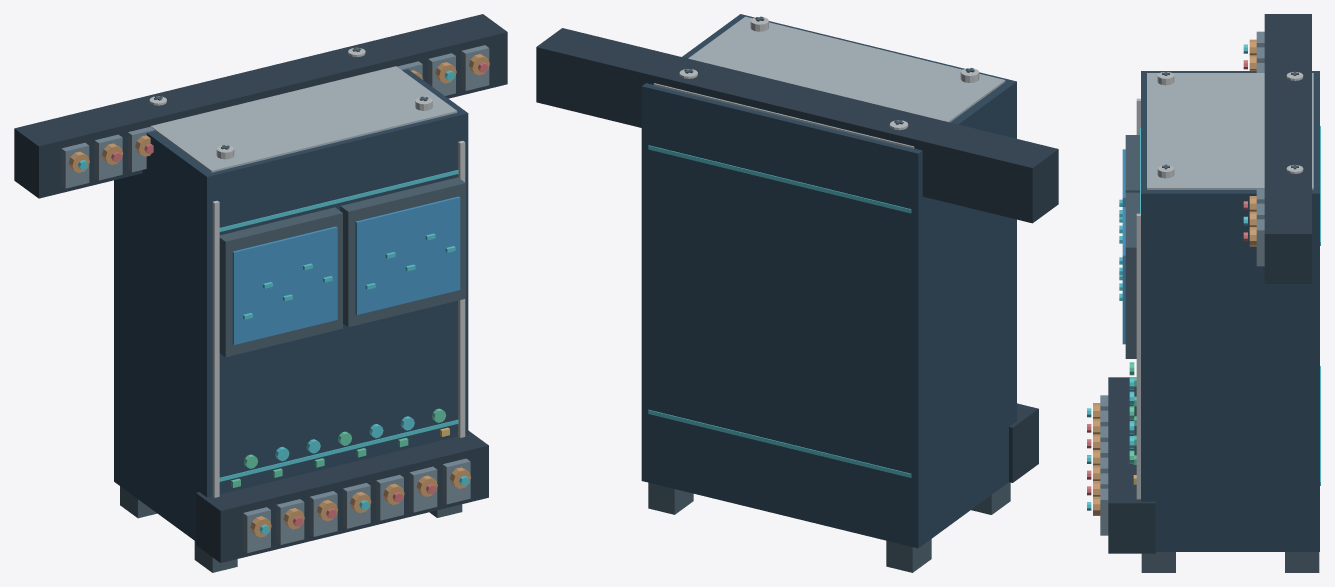
Rendered from 39_L78_LowKFTIRBondingAnalyzer.glb.
3 renders of one model, left to right at view 1: azimuth 30°, elevation 25°; view 2: azimuth 150°, elevation 25°; view 3: azimuth 270°, elevation 25°, orthographic. The views are drawn at different scales.
Parts seen in each view (by area): view 1: LowKFTIRBondingAnalyzer_Node_0000, LowKFTIRBondingAnalyzer_Node_0007, LowKFTIRBondingAnalyzer_Node_0049, LowKFTIRBondingAnalyzer_Node_0077, LowKFTIRBondingAnalyzer_Node_0032, LowKFTIRBondingAnalyzer_Node_0025, LowKFTIRBondingAnalyzer_Node_0102, LowKFTIRBondingAnalyzer_Node_0024, LowKFTIRBondingAnalyzer_Node_0031, LowKFTIRBondingAnalyzer_Node_0005, LowKFTIRBondingAnalyzer_Node_0006, LowKFTIRBondingAnalyzer_Node_0021 (+13 smaller); view 2: LowKFTIRBondingAnalyzer_Node_0000, LowKFTIRBondingAnalyzer_Node_0077, LowKFTIRBondingAnalyzer_Node_0007, LowKFTIRBondingAnalyzer_Node_0102, LowKFTIRBondingAnalyzer_Node_0049, LowKFTIRBondingAnalyzer_Node_0020, LowKFTIRBondingAnalyzer_Node_0022, LowKFTIRBondingAnalyzer_Node_0045, LowKFTIRBondingAnalyzer_Node_0047; view 3: LowKFTIRBondingAnalyzer_Node_0000, LowKFTIRBondingAnalyzer_Node_0007, LowKFTIRBondingAnalyzer_Node_0102, LowKFTIRBondingAnalyzer_Node_0049, LowKFTIRBondingAnalyzer_Node_0077, LowKFTIRBondingAnalyzer_Node_0031, LowKFTIRBondingAnalyzer_Node_0006, LowKFTIRBondingAnalyzer_Node_0024, LowKFTIRBondingAnalyzer_Node_0047, LowKFTIRBondingAnalyzer_Node_0048, LowKFTIRBondingAnalyzer_Node_0032, LowKFTIRBondingAnalyzer_Node_0068 (+1 smaller).
Boxes of the visible parts, box(x1,y1,x2,y2) form: LowKFTIRBondingAnalyzer_Node_0000: box(114, 69, 468, 541); LowKFTIRBondingAnalyzer_Node_0007: box(150, 66, 457, 172); LowKFTIRBondingAnalyzer_Node_0049: box(196, 430, 488, 562); LowKFTIRBondingAnalyzer_Node_0077: box(14, 55, 340, 198); LowKFTIRBondingAnalyzer_Node_0032: box(355, 196, 460, 314); LowKFTIRBondingAnalyzer_Node_0025: box(232, 226, 337, 344); LowKFTIRBondingAnalyzer_Node_0102: box(182, 14, 507, 112); LowKFTIRBondingAnalyzer_Node_0024: box(219, 207, 342, 357); LowKFTIRBondingAnalyzer_Node_0031: box(340, 177, 465, 327); LowKFTIRBondingAnalyzer_Node_0005: box(212, 200, 219, 497); LowKFTIRBondingAnalyzer_Node_0006: box(458, 140, 465, 437); LowKFTIRBondingAnalyzer_Node_0021: box(219, 419, 458, 481); LowKFTIRBondingAnalyzer_Node_0000: box(641, 14, 1016, 548); LowKFTIRBondingAnalyzer_Node_0077: box(713, 71, 1058, 223); LowKFTIRBondingAnalyzer_Node_0007: box(653, 16, 1005, 148); LowKFTIRBondingAnalyzer_Node_0102: box(536, 28, 880, 130); LowKFTIRBondingAnalyzer_Node_0049: box(1009, 403, 1038, 482); LowKFTIRBondingAnalyzer_Node_0020: box(648, 409, 911, 477); LowKFTIRBondingAnalyzer_Node_0022: box(648, 145, 911, 213); LowKFTIRBondingAnalyzer_Node_0045: box(886, 539, 931, 572); LowKFTIRBondingAnalyzer_Node_0047: box(648, 482, 693, 514); LowKFTIRBondingAnalyzer_Node_0000: box(1141, 71, 1319, 551); LowKFTIRBondingAnalyzer_Node_0007: box(1147, 73, 1313, 189); LowKFTIRBondingAnalyzer_Node_0102: box(1264, 92, 1311, 283); LowKFTIRBondingAnalyzer_Node_0049: box(1108, 377, 1155, 553); LowKFTIRBondingAnalyzer_Node_0077: box(1264, 14, 1311, 155); LowKFTIRBondingAnalyzer_Node_0031: box(1125, 192, 1139, 358); LowKFTIRBondingAnalyzer_Node_0006: box(1136, 213, 1140, 499); LowKFTIRBondingAnalyzer_Node_0024: box(1125, 135, 1139, 192); LowKFTIRBondingAnalyzer_Node_0047: box(1285, 552, 1319, 572); LowKFTIRBondingAnalyzer_Node_0048: box(1141, 552, 1175, 572); LowKFTIRBondingAnalyzer_Node_0032: box(1122, 207, 1125, 344); LowKFTIRBondingAnalyzer_Node_0068: box(1100, 488, 1108, 535).
Size of the model in its own units: 1.97 by 1.65 by 0.8872.
